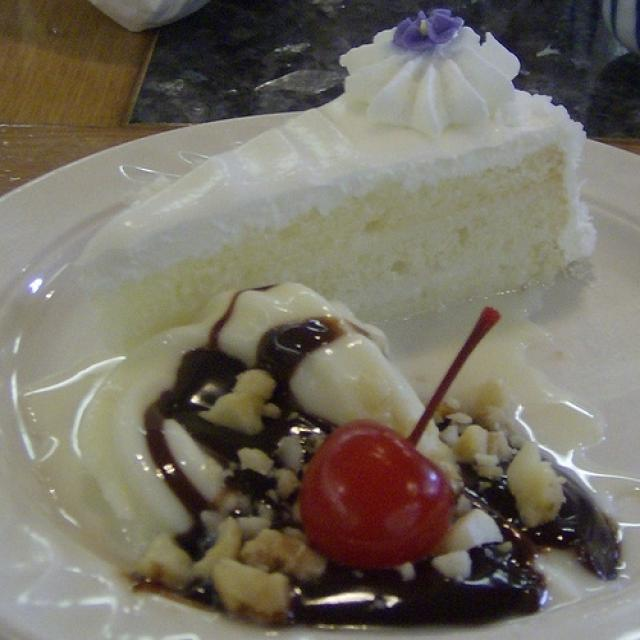蛋糕甜品: (18, 20, 617, 616)
